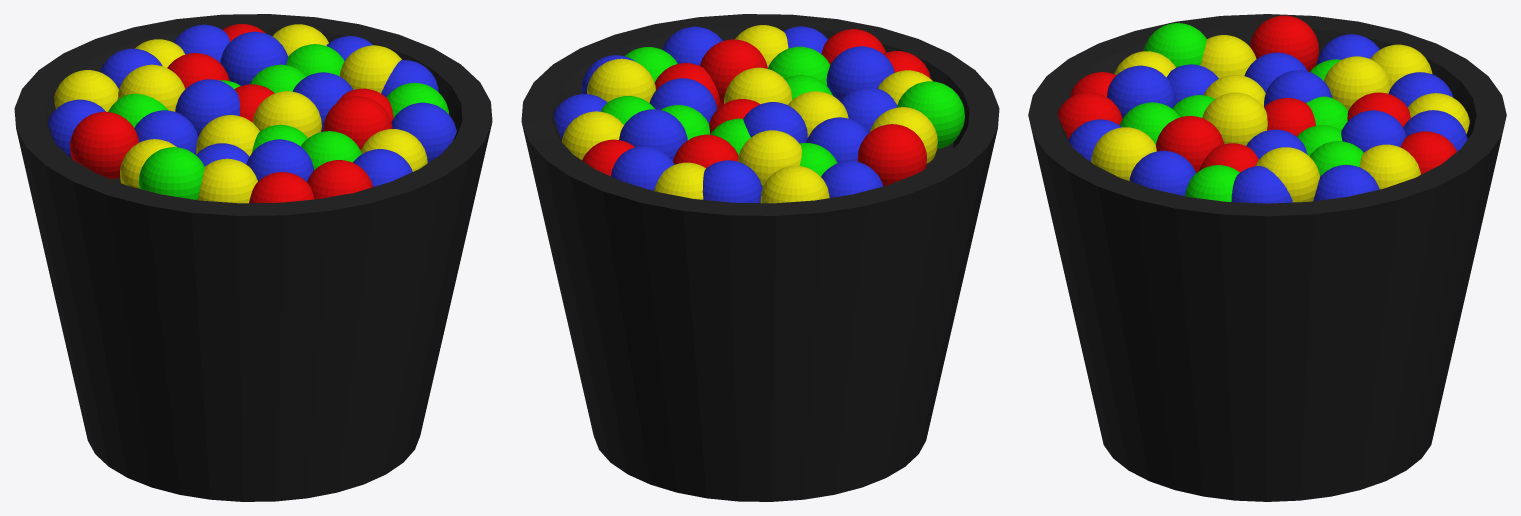
The model's file is Bucket Of Orbeez.fbx.
3 renders of one model, left to right at view 1: azimuth 30°, elevation 25°; view 2: azimuth 150°, elevation 25°; view 3: azimuth 270°, elevation 25°, orthographic.
Parts seen in each view (by area): view 1: Cylinder; view 2: Cylinder; view 3: Cylinder.
Boxes of the visible parts, x1=… form: Cylinder: x1=14, y1=14, x2=492, y2=501; Cylinder: x1=521, y1=14, x2=999, y2=501; Cylinder: x1=1028, y1=14, x2=1506, y2=501.
Size of the model in its own units: 200 by 159 by 200.
